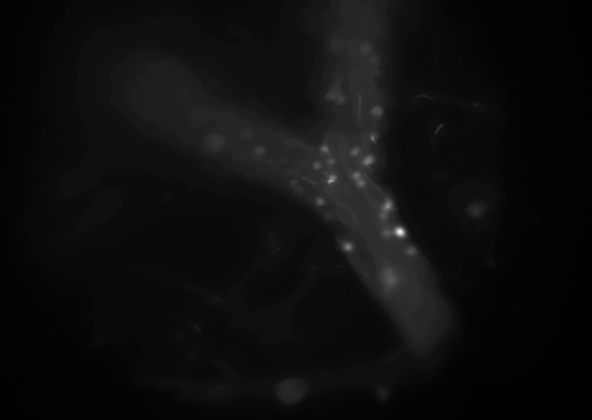cell: (394, 225, 408, 239), (369, 104, 383, 118), (349, 145, 363, 159), (362, 153, 376, 167), (317, 142, 331, 156), (310, 157, 324, 171), (324, 154, 338, 168), (327, 89, 341, 103), (350, 169, 364, 183), (332, 92, 346, 106), (356, 178, 370, 192), (341, 241, 355, 255), (382, 271, 396, 285), (378, 226, 392, 240), (381, 198, 395, 212), (374, 208, 388, 222), (378, 202, 392, 216), (313, 195, 327, 209), (285, 176, 299, 190), (253, 144, 267, 158), (210, 136, 224, 150), (358, 43, 372, 57), (366, 53, 380, 67), (333, 38, 347, 52), (325, 172, 339, 186), (368, 130, 382, 144)
